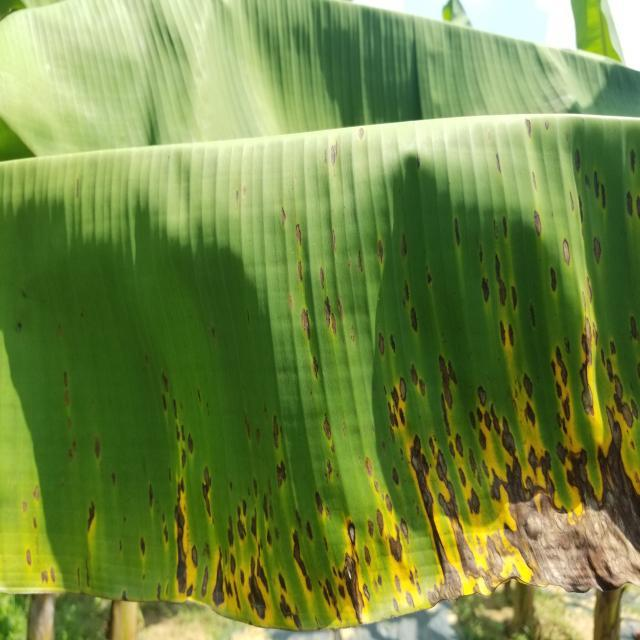Early_rust: (0, 108, 640, 621)
